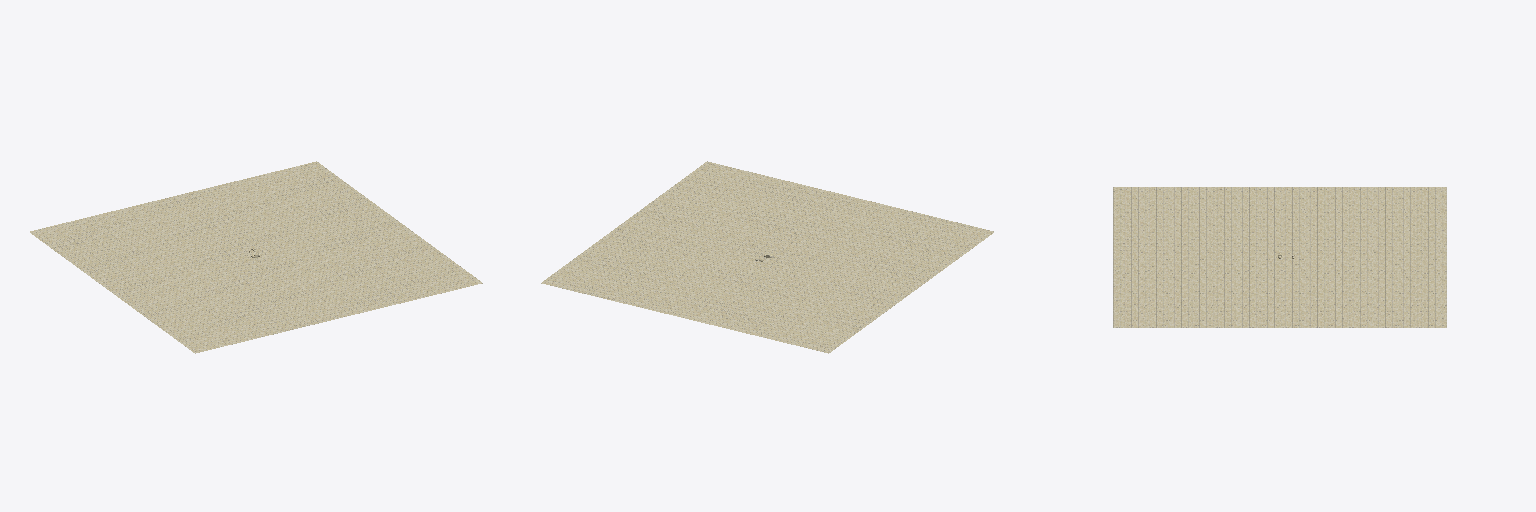
The picture shows the model from 3 angles: view 1: azimuth 30°, elevation 25°; view 2: azimuth 150°, elevation 25°; view 3: azimuth 270°, elevation 25°; orthographic projection.
Visible parts, largest first — view 1: Plane; view 2: Plane; view 3: Plane.
Part boxes in pixels (bbox=[...]): Plane: bbox=[30, 161, 482, 353]; Plane: bbox=[541, 161, 993, 353]; Plane: bbox=[1113, 187, 1446, 327].
Bounding box in the file's own units: 200 × 2 × 200.
1 materials, 1 textured.